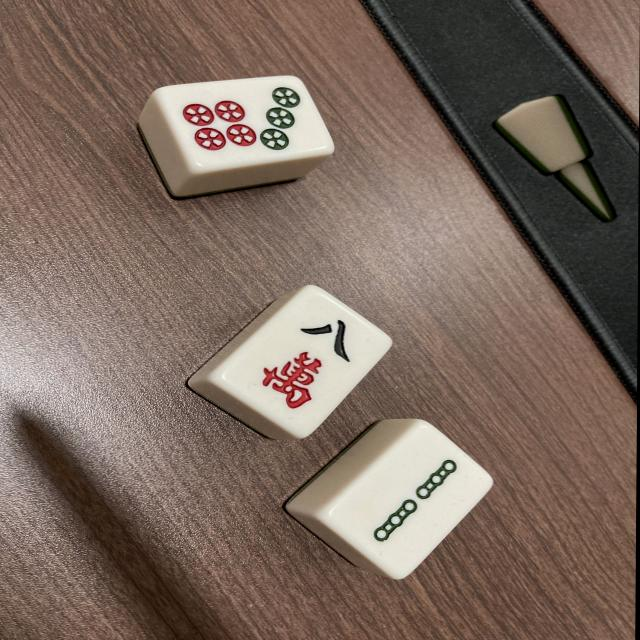m8: (208, 271, 394, 442)
s2: (324, 420, 496, 583)
t7: (155, 76, 341, 184)
